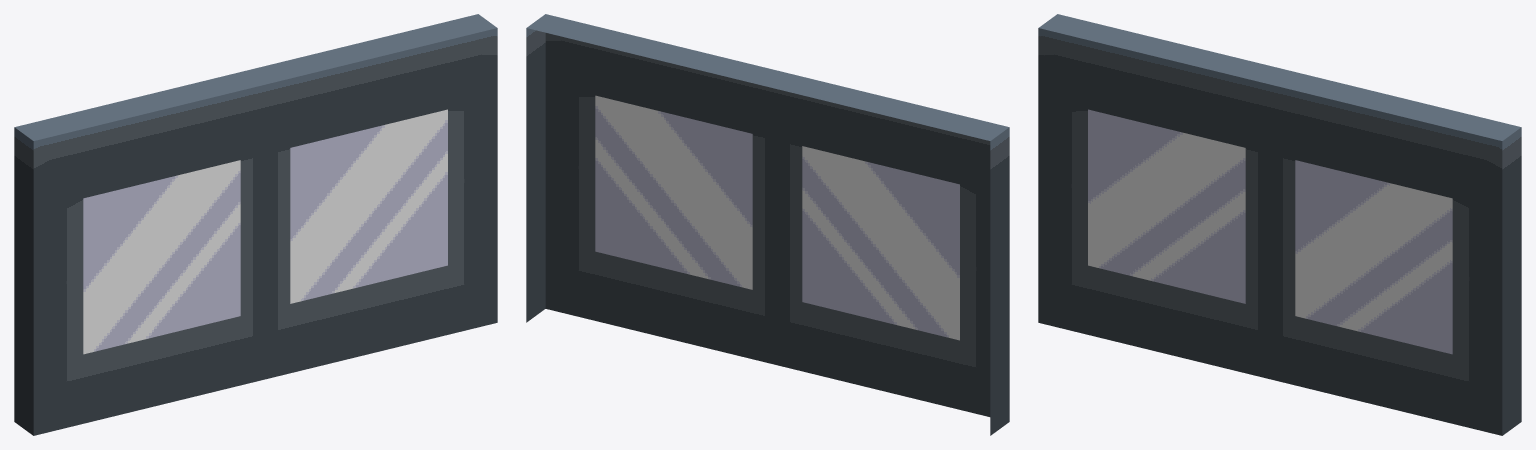
3 renders of one model, left to right at view 1: azimuth 30°, elevation 25°; view 2: azimuth 150°, elevation 25°; view 3: azimuth 330°, elevation 25°, orthographic.
Visible parts, largest first — view 1: polygon0, polygon1; view 2: polygon0, polygon1; view 3: polygon0, polygon1.
Boxes of the visible parts, box(x1,y1,x2,y2) form: polygon0: box(14, 14, 497, 435); polygon1: box(83, 109, 447, 354); polygon0: box(526, 14, 1009, 435); polygon1: box(595, 95, 959, 340); polygon0: box(1038, 14, 1521, 435); polygon1: box(1088, 109, 1452, 354).
Size of the model in its own units: 3.5 by 2.12 by 0.25.
